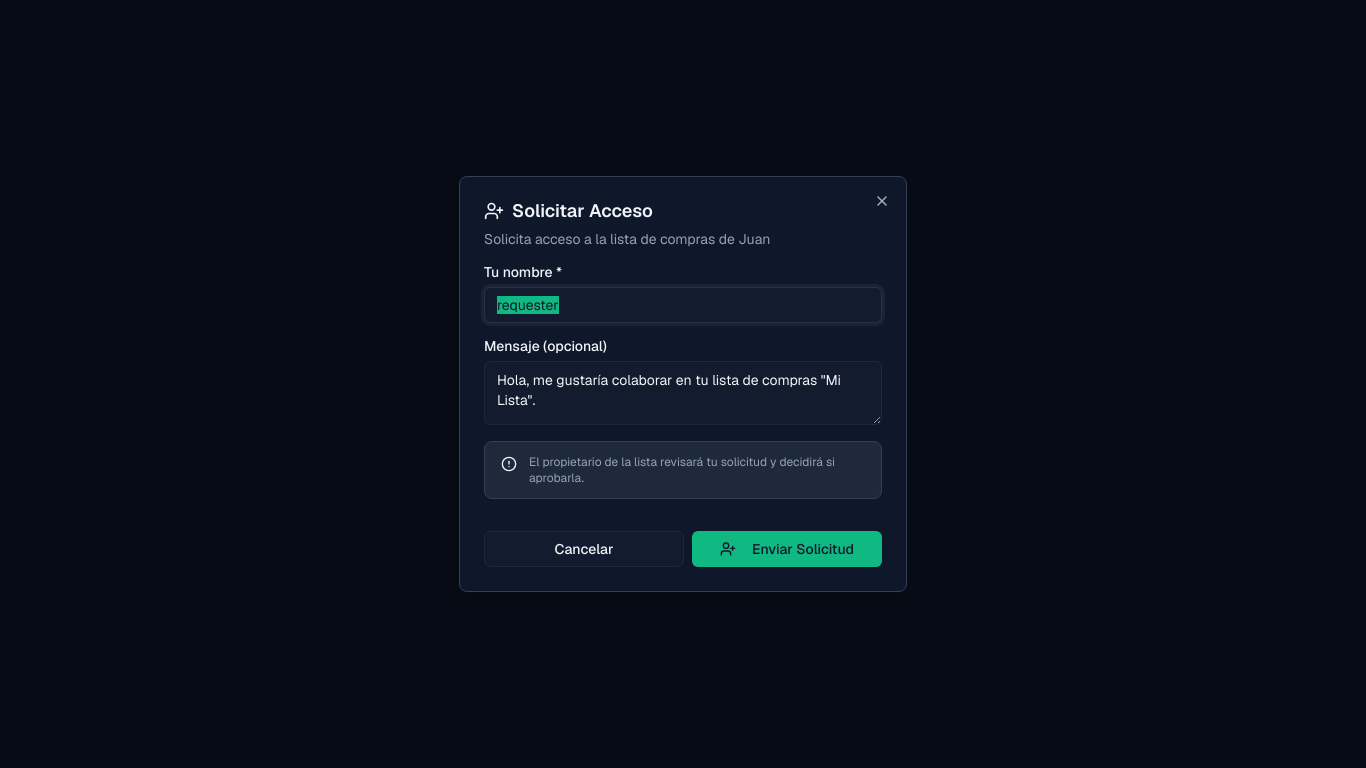
Test: RequestAccessModal › should allow retry after error
The image size is (1366, 768).
Replace the text in the field labelled "Tu nombre *" with "María García". click: (683, 305)
box: [484,287,882,323]
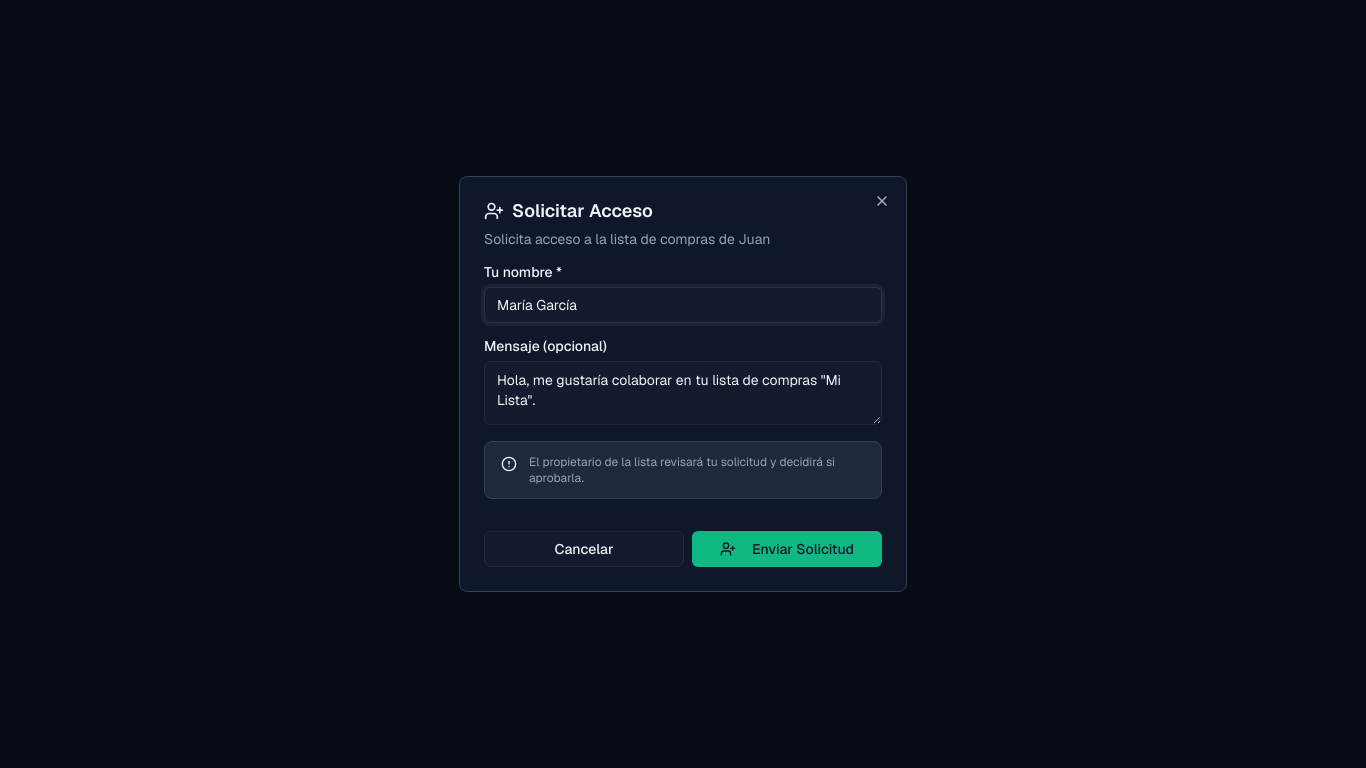
Click the button "Enviar Solicitud". click: click(787, 549)
box: [692,531,882,567]
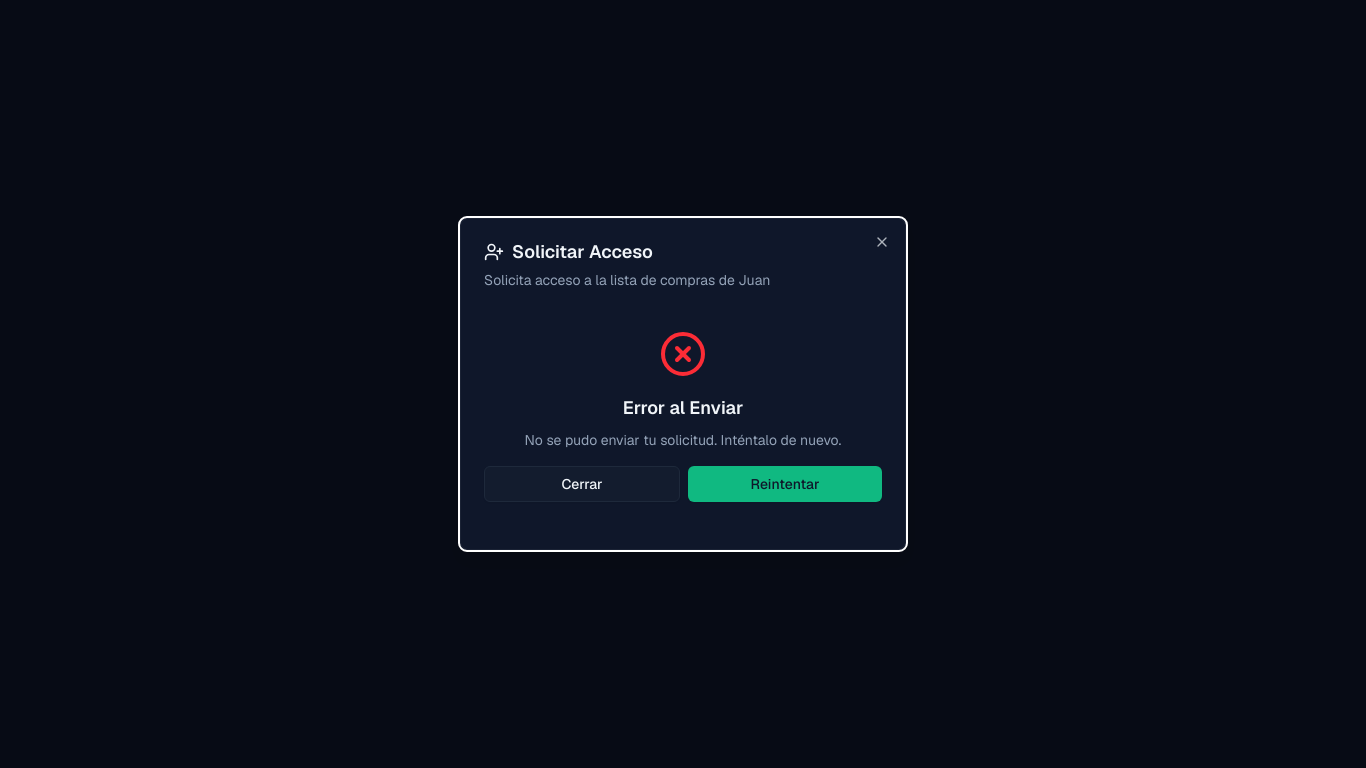
Result: the heading "Error al Enviar" is shown at [623,396,743,419]
Click the button "Reintentar". click: click(785, 484)
box: [688,466,882,502]
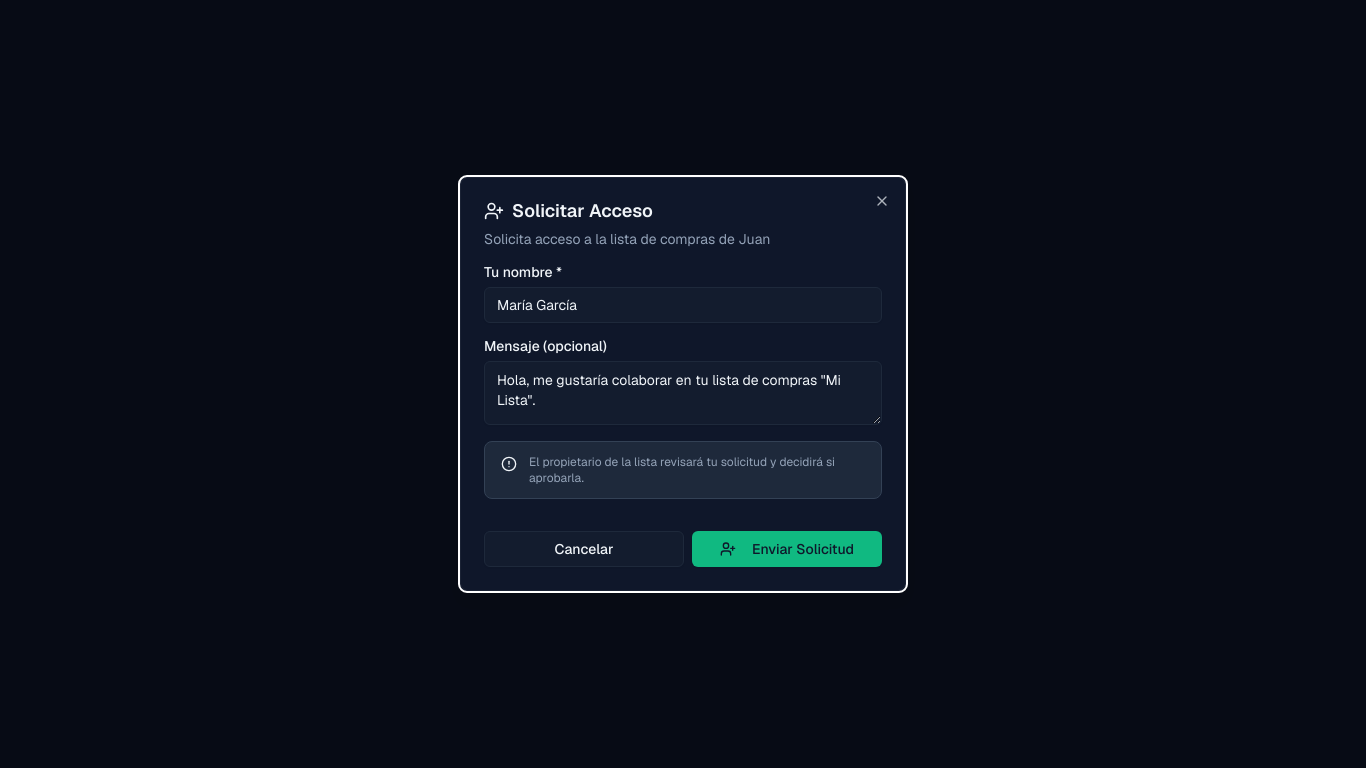
Result: the button "Enviar Solicitud" is shown at [692,531,882,567]
